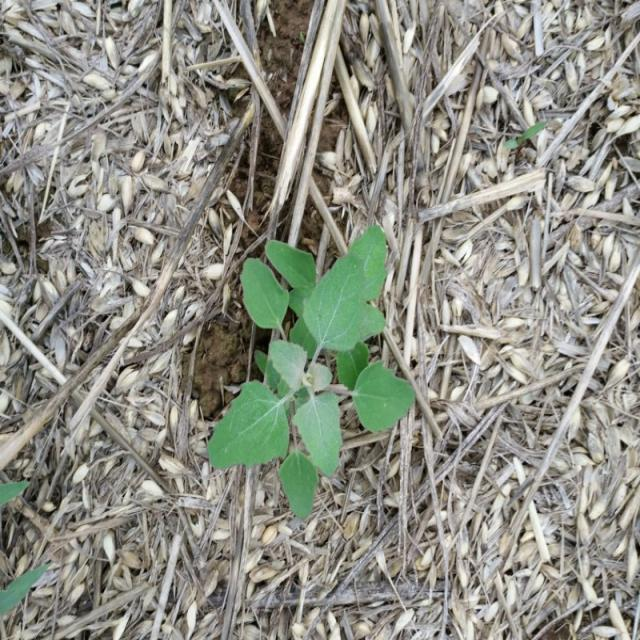goosefoots: (198, 213, 420, 518)
